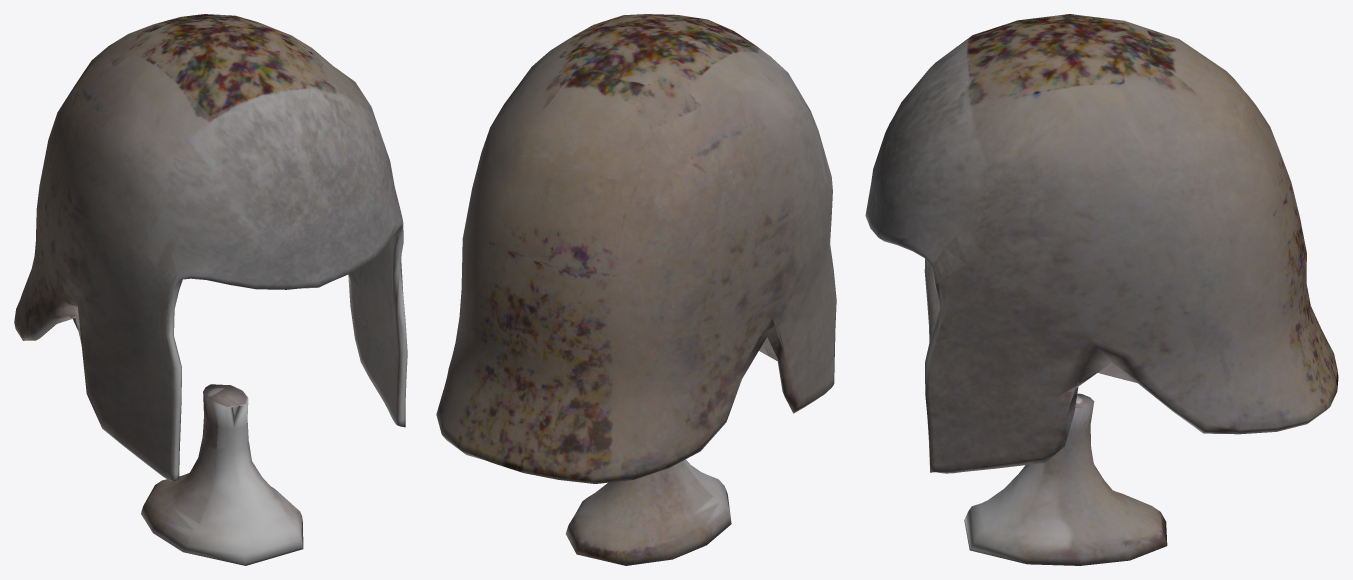
Rendered from helmet-leather-base_backup.glb.
3 views of the same model, side by side, from view 1: azimuth 30°, elevation 25°; view 2: azimuth 150°, elevation 25°; view 3: azimuth 270°, elevation 25° (orthographic). The views are drawn at different scales.
Parts seen in each view (by area): view 1: file1; view 2: file1; view 3: file1.
Part boxes in pixels (<box>): file1: <box>14,14,407,565</box>; file1: <box>436,14,836,565</box>; file1: <box>865,14,1338,565</box>.
Bounding box in the file's own units: 1.2 × 1.99 × 1.69.
1 material, 1 textured.
